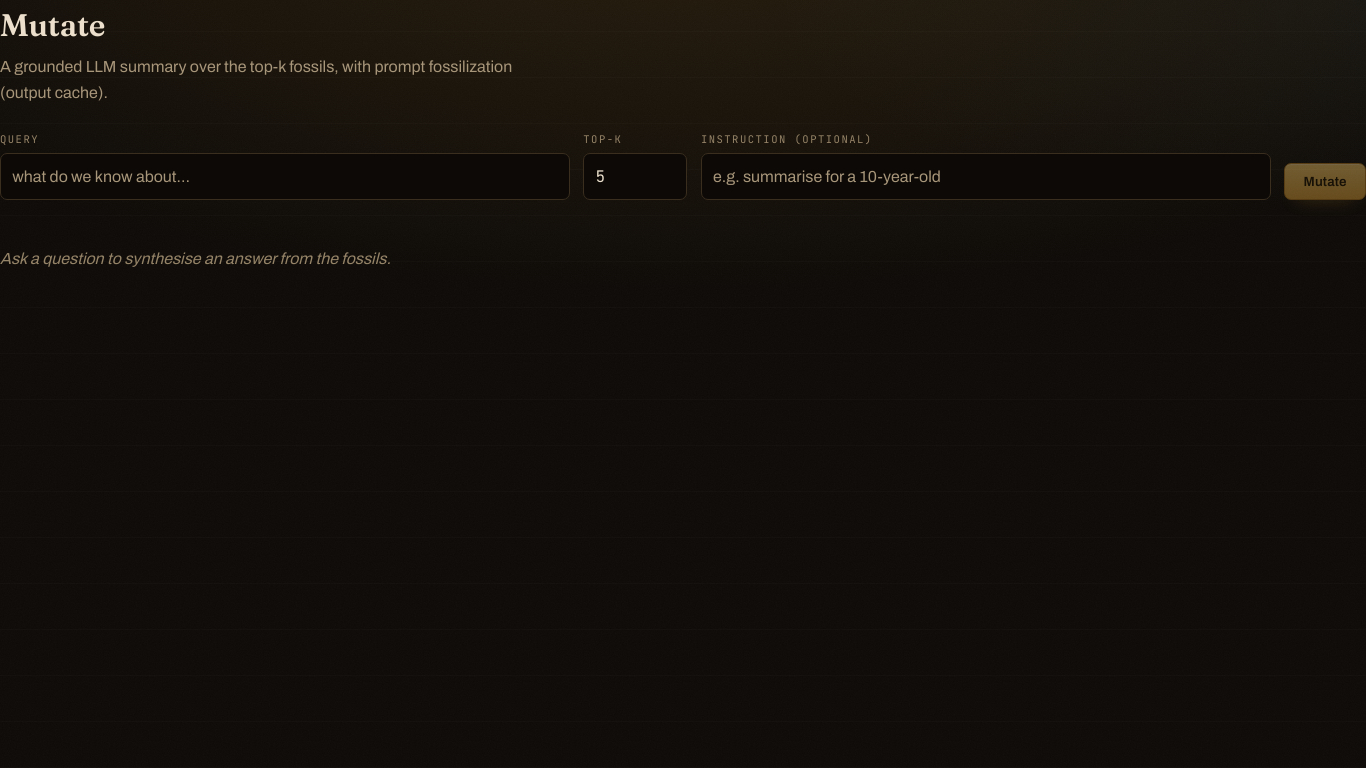
Test case: MutatePanel › surfaces an LLM error as an alert
Type "x" into the field labelled "Query" at [285, 177], box [0, 153, 570, 200]
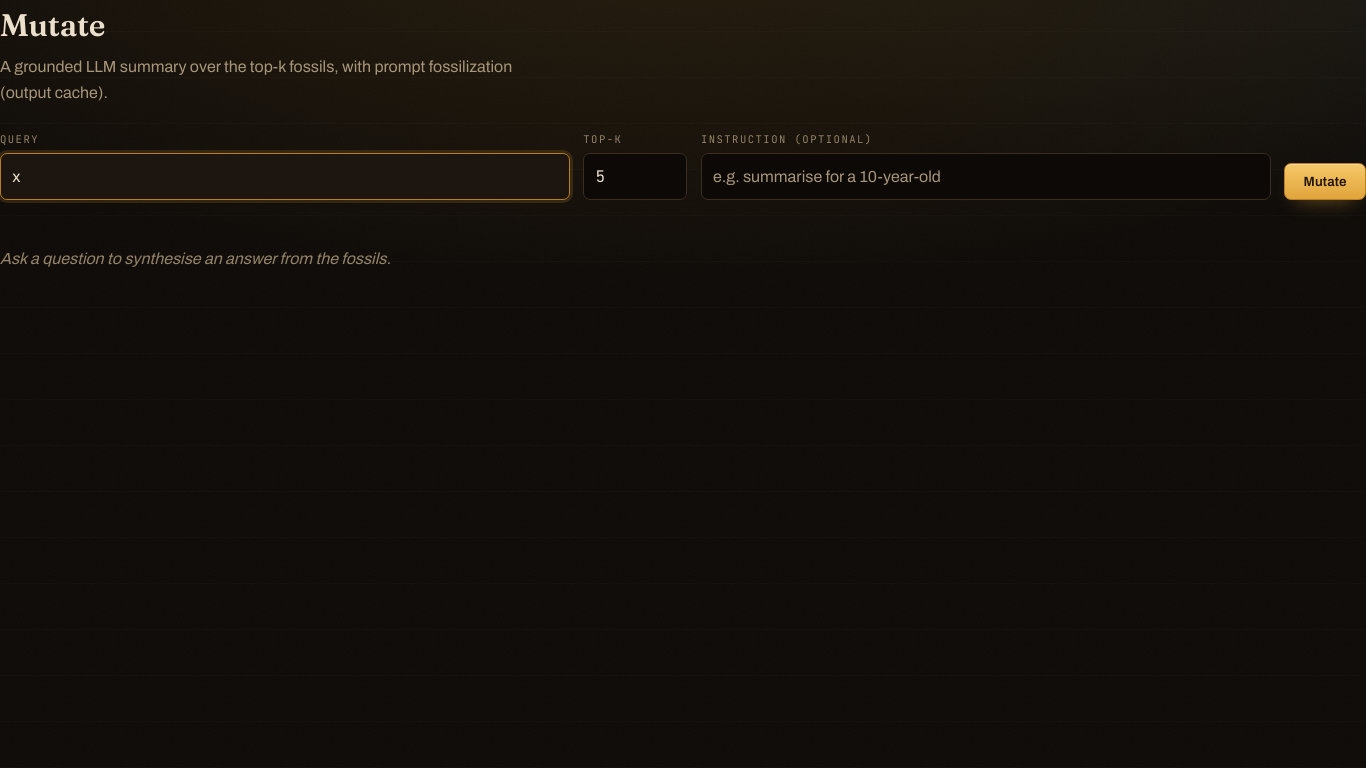
Click the button "Mutate" at [1325, 182], box [1284, 163, 1365, 200]
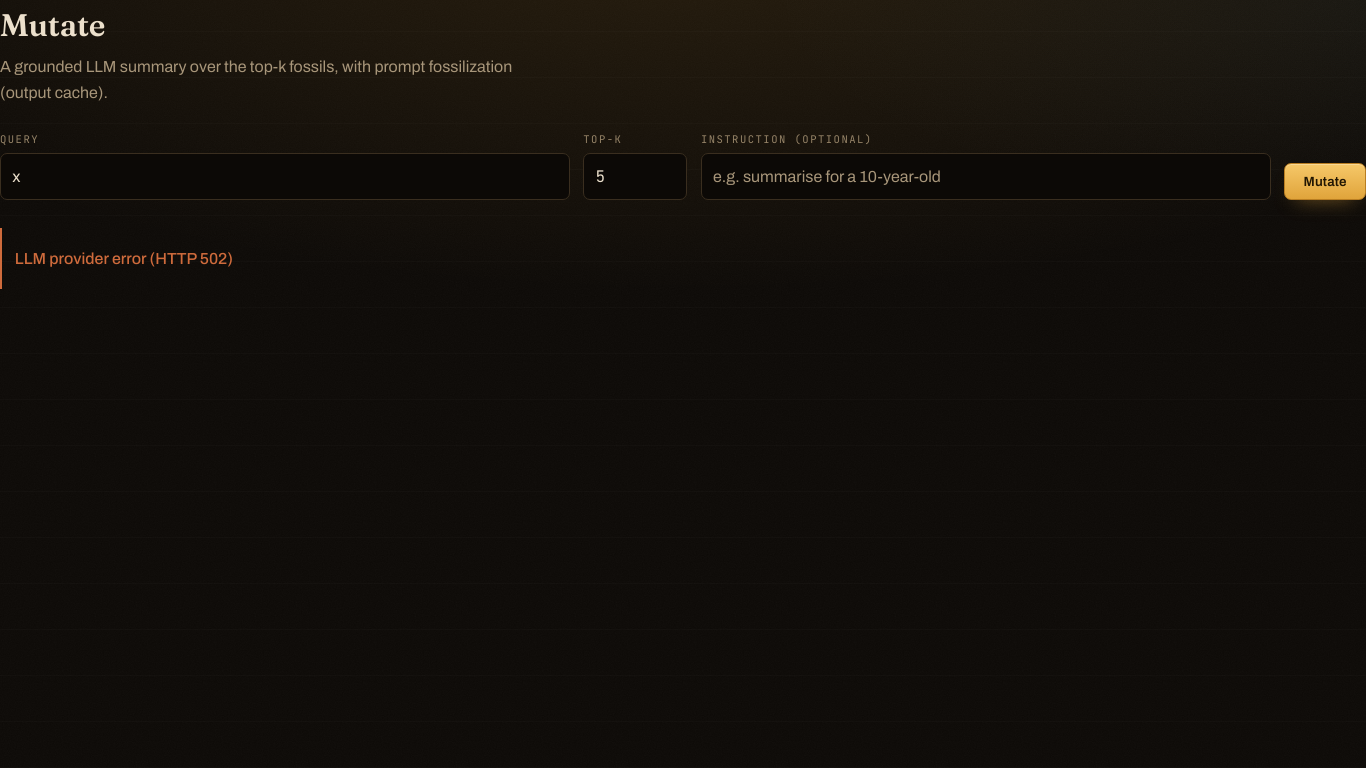
Expected: the message shows "LLM provider error", [15, 250, 233, 267]
